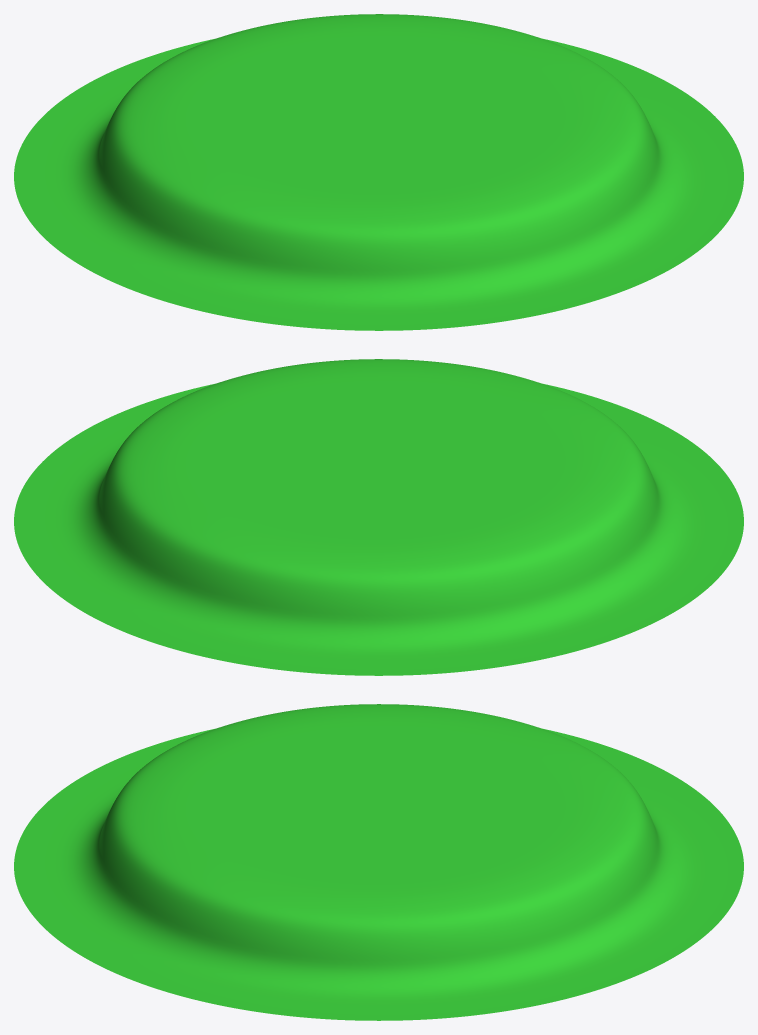
File: island.fbx
The picture shows the model from 3 angles, top to bottom: view 1: azimuth 30°, elevation 25°; view 2: azimuth 150°, elevation 25°; view 3: azimuth 270°, elevation 25°; orthographic projection.
Parts seen in each view (by area): view 1: island; view 2: island; view 3: island.
Part boxes in pixels (bbox=[...]): island: bbox=[14, 14, 743, 330]; island: bbox=[14, 359, 743, 675]; island: bbox=[14, 704, 743, 1020].
Size of the model in its own units: 12137 by 1102 by 12137.
